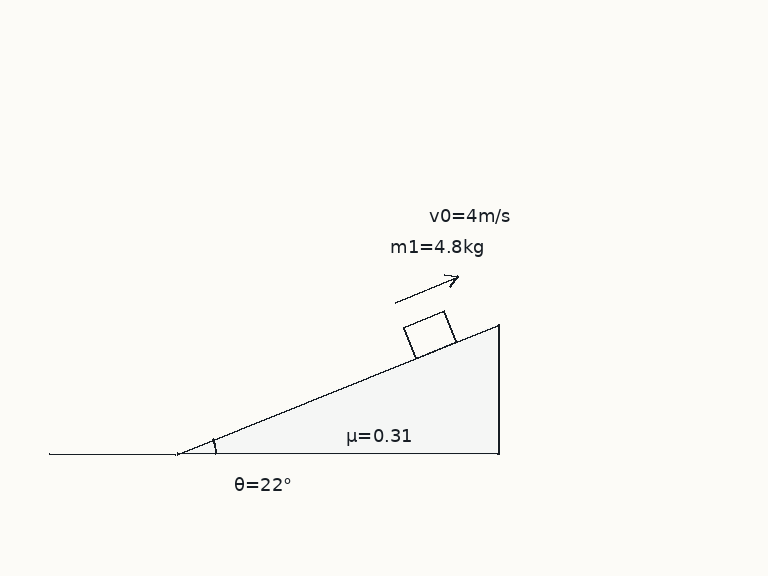block: (401, 309, 458, 359)
ramp: (174, 322, 499, 456)
